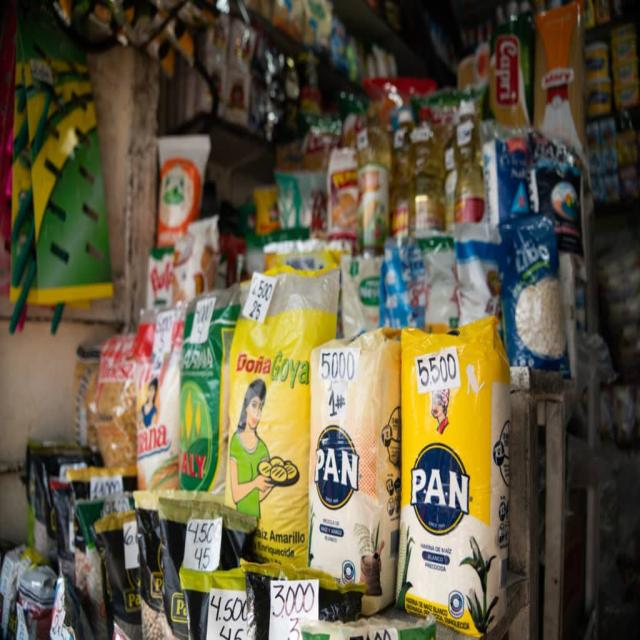Arina_pan: (401, 326, 516, 635), (313, 340, 401, 603)
Precio: (271, 581, 319, 640), (240, 270, 278, 331), (415, 348, 462, 393), (209, 598, 256, 640), (184, 522, 221, 569), (318, 351, 363, 384), (188, 295, 218, 344)
